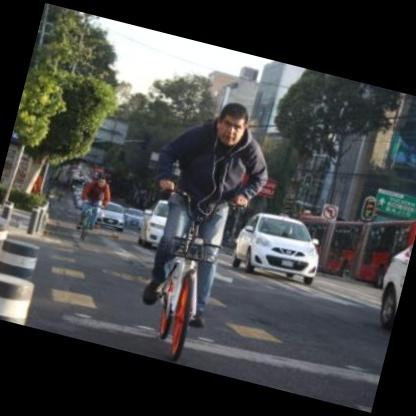Bicycle: (124, 179, 257, 361), (72, 198, 109, 246)
